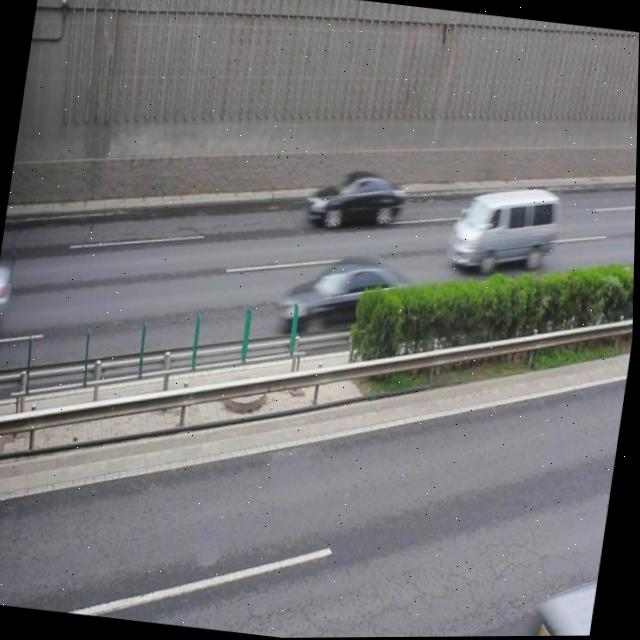car: (276, 248, 419, 349), (302, 161, 409, 237), (513, 571, 600, 637)
truck: (445, 179, 562, 278)
